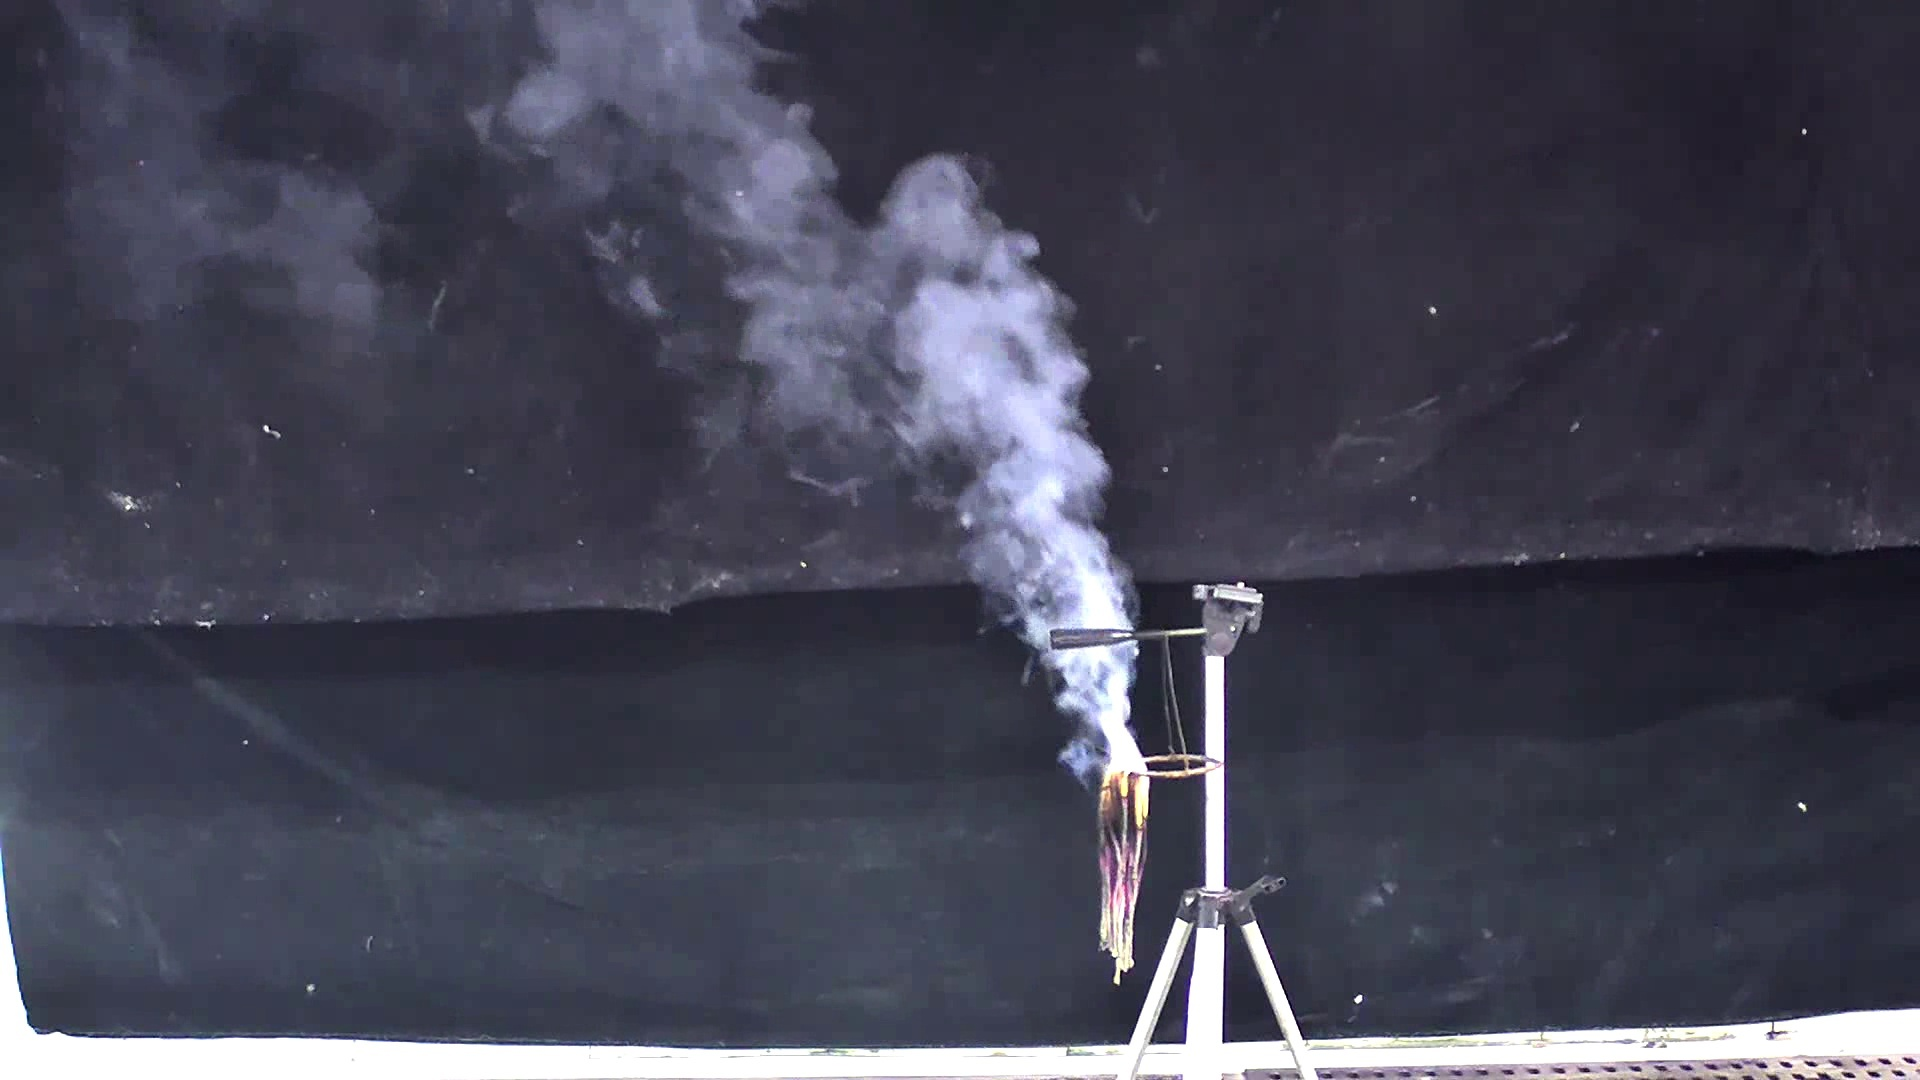smoke: (516, 28, 1145, 781)
